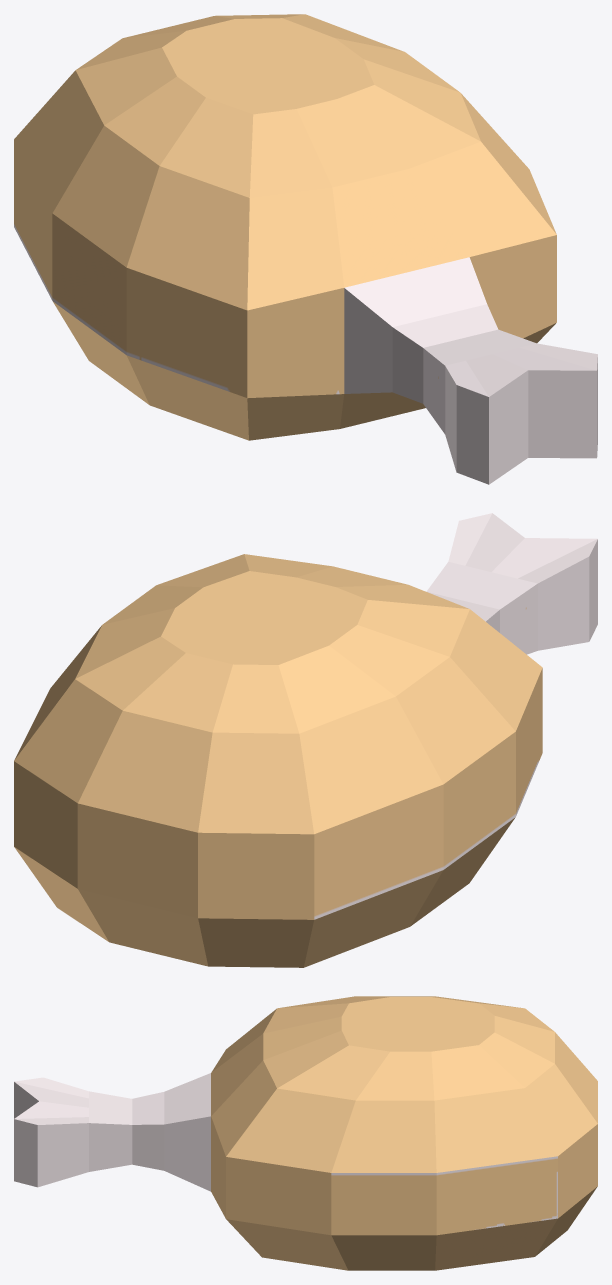
File: ChickenDrummy 2.fbx
3 views of the same model, one above another, from view 1: azimuth 30°, elevation 25°; view 2: azimuth 150°, elevation 25°; view 3: azimuth 270°, elevation 25° (orthographic). The views are drawn at different scales.
Parts seen in each view (by area): view 1: Plane; view 2: Plane; view 3: Plane.
Boxes of the visible parts, x1=… form: Plane: x1=14, y1=14, x2=597, y2=484; Plane: x1=14, y1=513, x2=597, y2=967; Plane: x1=14, y1=996, x2=597, y2=1270.
Bounding box in the file's own units: 115 × 79.74 × 203.
